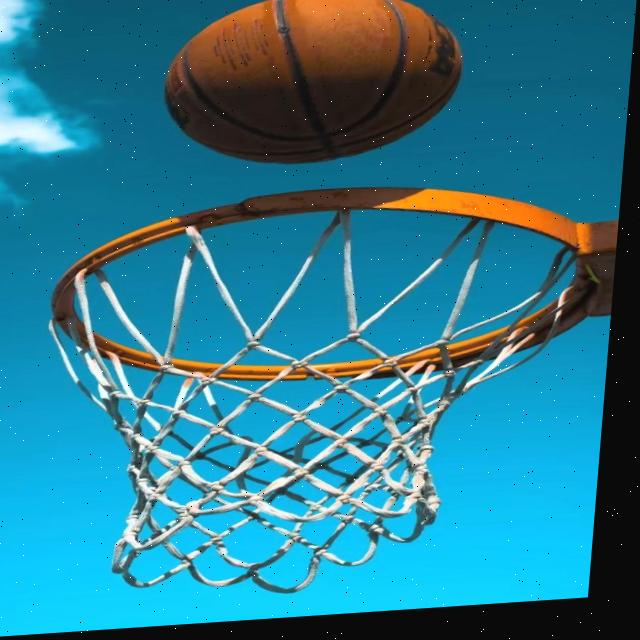hoop: (32, 143, 625, 605)
